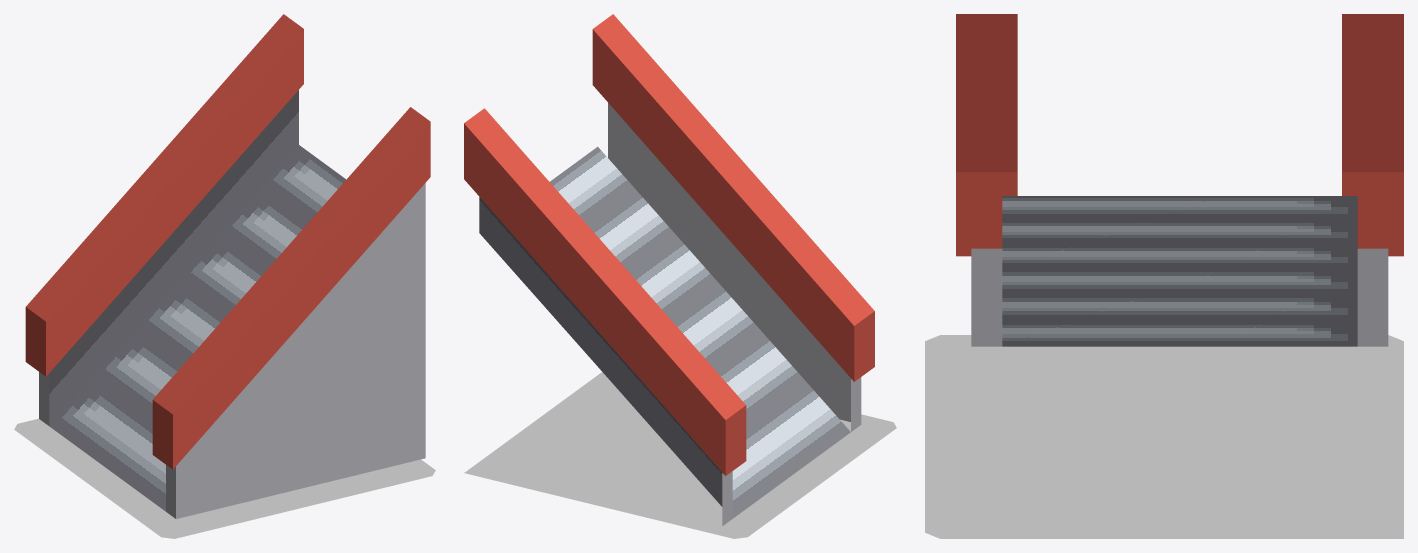
The model's file is m_indoorStairs.fbx.
3 views of the same model, side by side, from view 1: azimuth 30°, elevation 25°; view 2: azimuth 150°, elevation 25°; view 3: azimuth 270°, elevation 25° (orthographic). The views are drawn at different scales.
Parts seen in each view (by area): view 1: polygon10_1; view 2: polygon10_1; view 3: polygon10_1.
Boxes of the visible parts, <box> form: polygon10_1: <box>14,14,435,538</box>; polygon10_1: <box>464,14,896,538</box>; polygon10_1: <box>925,14,1403,538</box>.
Size of the model in its own units: 48.83 by 58.59 by 48.44.
3 materials, 2 textured.
